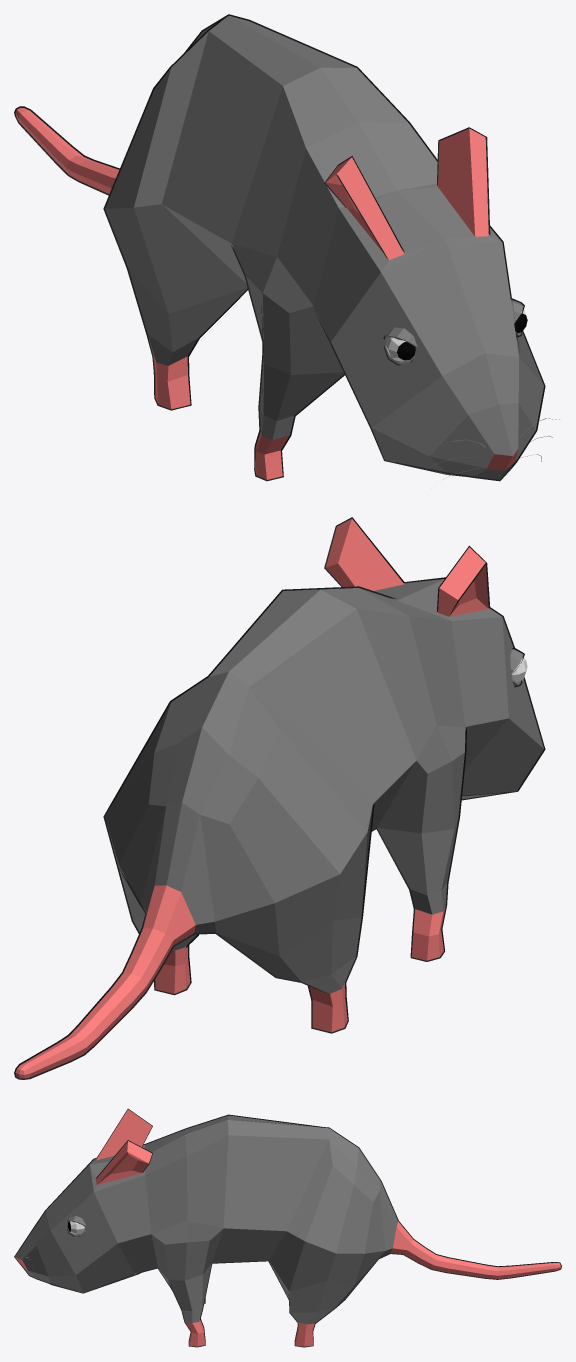
File: timmy_the_hooved_rat.glb
The picture shows the model from 3 angles, top to bottom: view 1: azimuth 30°, elevation 25°; view 2: azimuth 150°, elevation 25°; view 3: azimuth 270°, elevation 25°; orthographic projection. The views are drawn at different scales.
Parts seen in each view (by area): view 1: Textured rat; view 2: Textured rat; view 3: Textured rat.
Boxes of the visible parts, x1,y1,x2,y2 form: Textured rat: (14, 14, 559, 481); Textured rat: (14, 517, 545, 1079); Textured rat: (14, 1108, 561, 1347).
Size of the model in its own units: 0.0021 by 0.0031 by 0.00757.
1 material, 1 textured.
